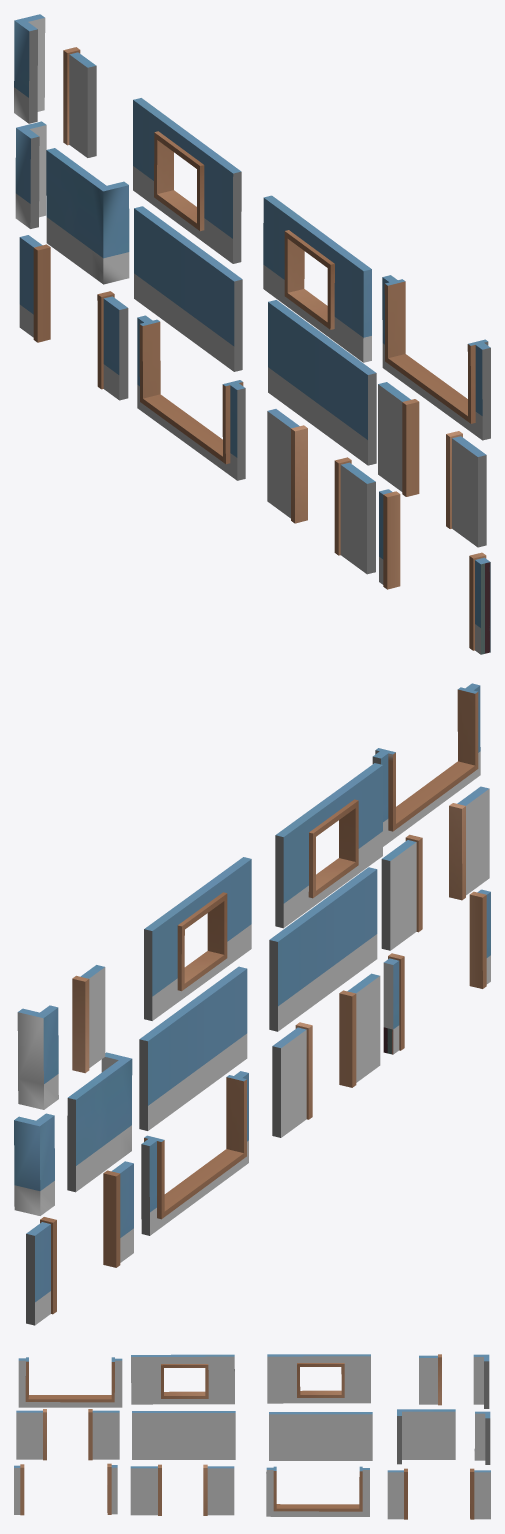
Rendered from solo parets blau.fbx.
The picture shows the model from 3 angles, top to bottom: view 1: azimuth 30°, elevation 25°; view 2: azimuth 150°, elevation 25°; view 3: azimuth 270°, elevation 25°; orthographic projection. The views are drawn at different scales.
Visible parts, largest first — view 1: paret_basica_tipo_5, paret_basica_tipo_6, paret_ventana_tipo_5, paret_ventana_tipo_6, paret_estrecha_tipo_4, paret_puerta_tipo_7, paret_puerta_tipo_8, paret_con_ventana_grande_tipo_6, paret_con_ventana_grande_tipo_5, paret_doblepuerta_tipo_3, paret_garaje_tipo_4, paret_con_borde_tipo_6 (+2 smaller); view 2: paret_basica_tipo_5, paret_basica_tipo_6, paret_ventana_tipo_5, paret_ventana_tipo_6, paret_puerta_tipo_7, paret_puerta_tipo_8, paret_estrecha_tipo_4, paret_con_ventana_grande_tipo_6, paret_doblepuerta_tipo_3, paret_con_ventana_grande_tipo_5, paret_garaje_tipo_4, paret_esquina_tipo_9 (+2 smaller); view 3: paret_basica_tipo_5, paret_basica_tipo_6, paret_ventana_tipo_5, paret_ventana_tipo_6, paret_puerta_tipo_7, paret_puerta_tipo_8, paret_estrecha_tipo_4, paret_con_ventana_grande_tipo_5, paret_con_ventana_grande_tipo_6, paret_doblepuerta_tipo_3, paret_con_borde_tipo_6, paret_garaje_tipo_4 (+2 smaller).
Part boxes in pixels (x1,y1,x2,y2): paret_basica_tipo_5: (268, 300, 376, 465); paret_basica_tipo_6: (134, 206, 242, 371); paret_ventana_tipo_5: (263, 195, 371, 362); paret_ventana_tipo_6: (133, 98, 241, 263); paret_estrecha_tipo_4: (46, 148, 129, 284); paret_puerta_tipo_7: (267, 409, 375, 574); paret_puerta_tipo_8: (378, 382, 486, 547); paret_con_ventana_grande_tipo_6: (137, 315, 245, 480); paret_con_ventana_grande_tipo_5: (382, 275, 490, 440); paret_doblepuerta_tipo_3: (19, 235, 128, 400); paret_garaje_tipo_4: (379, 489, 490, 654); paret_con_borde_tipo_6: (63, 47, 96, 157); paret_basica_tipo_5: (269, 867, 377, 1031); paret_basica_tipo_6: (139, 966, 247, 1130); paret_ventana_tipo_5: (275, 763, 382, 928); paret_ventana_tipo_6: (144, 857, 251, 1020); paret_puerta_tipo_7: (272, 973, 380, 1137); paret_puerta_tipo_8: (381, 786, 489, 950); paret_estrecha_tipo_4: (67, 1052, 132, 1192); paret_con_ventana_grande_tipo_6: (141, 1071, 248, 1235); paret_doblepuerta_tipo_3: (26, 1161, 133, 1325); paret_con_ventana_grande_tipo_5: (372, 683, 480, 846); paret_garaje_tipo_4: (383, 889, 490, 1054); paret_esquina_tipo_9: (17, 1005, 58, 1109); paret_basica_tipo_5: (132, 1411, 235, 1459); paret_basica_tipo_6: (269, 1412, 372, 1460); paret_ventana_tipo_5: (131, 1354, 234, 1404); paret_ventana_tipo_6: (267, 1354, 370, 1403); paret_puerta_tipo_7: (130, 1464, 234, 1515); paret_puerta_tipo_8: (16, 1409, 119, 1460); paret_estrecha_tipo_4: (397, 1409, 455, 1464); paret_con_ventana_grande_tipo_5: (18, 1357, 122, 1407); paret_con_ventana_grande_tipo_6: (266, 1466, 369, 1516); paret_doblepuerta_tipo_3: (387, 1468, 490, 1519); paret_con_borde_tipo_6: (419, 1354, 441, 1405); paret_garaje_tipo_4: (14, 1463, 117, 1515).
Size of the model in its own units: 112 by 1144 by 3048.
